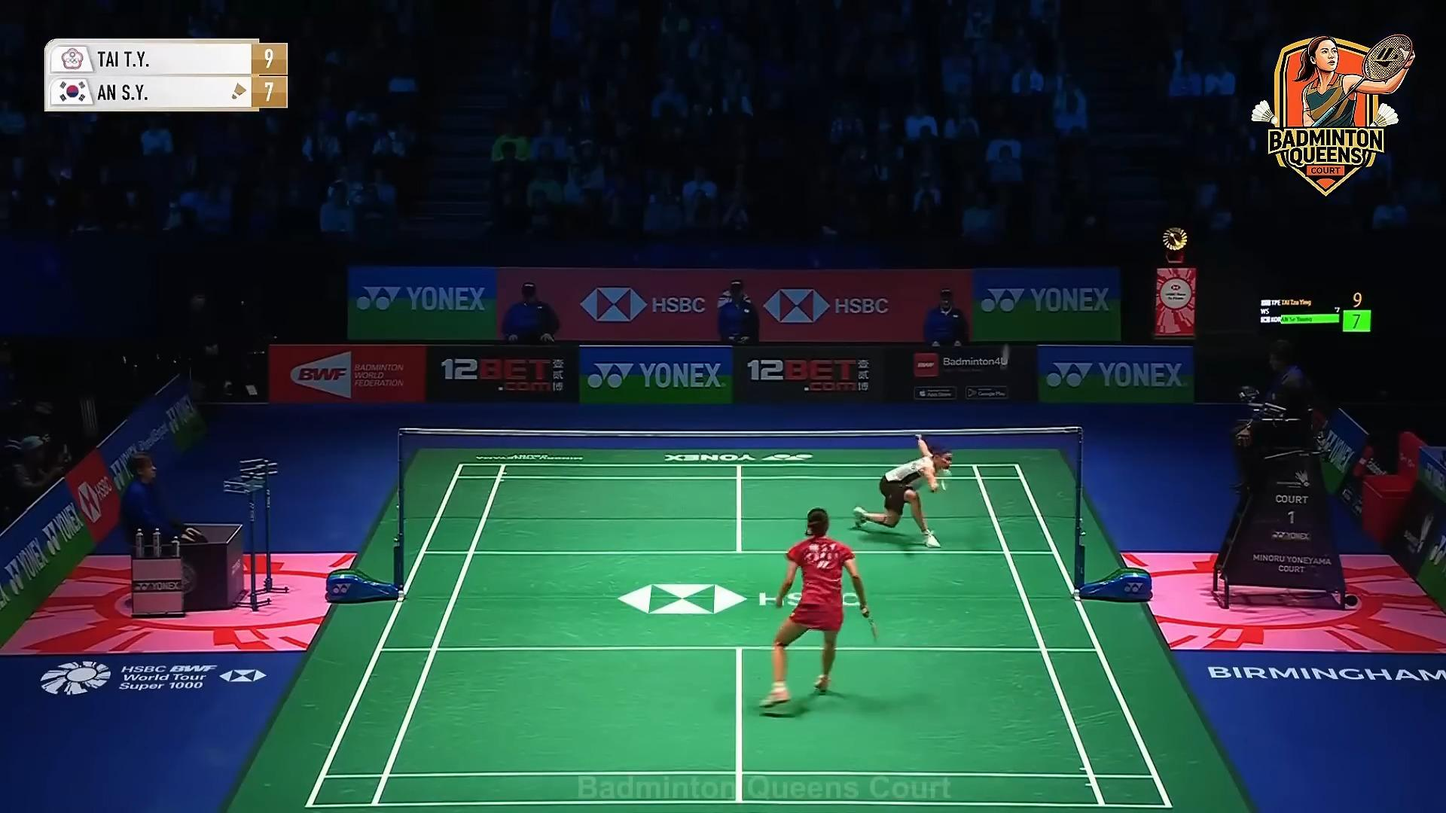player: (758, 507, 869, 708), (850, 433, 953, 549)
